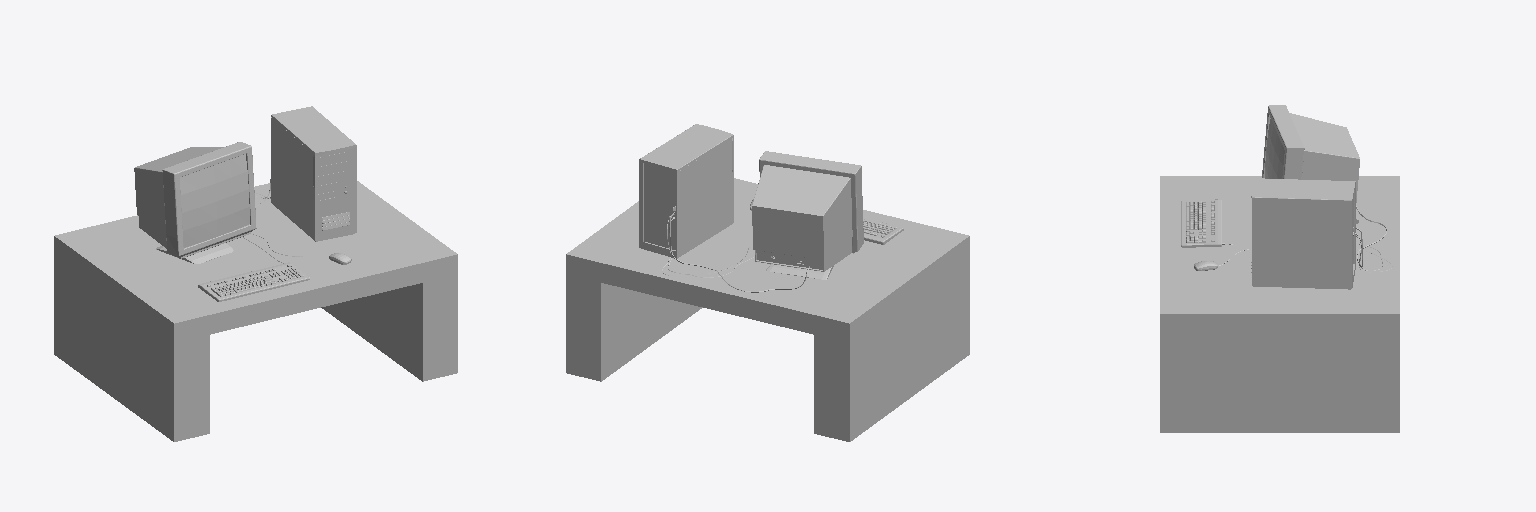
File: computer.obj
3 renders of one model, left to right at view 1: azimuth 30°, elevation 25°; view 2: azimuth 150°, elevation 25°; view 3: azimuth 270°, elevation 25°, orthographic.
Visible parts, largest first — view 1: Cube_Cube.002, retro_computer_setup_retro_computer_setup.001; view 2: Cube_Cube.002, retro_computer_setup_retro_computer_setup.001; view 3: Cube_Cube.002, retro_computer_setup_retro_computer_setup.001.
Part boxes in pixels (x1,y1,x2,y2): Cube_Cube.002: (54, 181, 457, 441); retro_computer_setup_retro_computer_setup.001: (134, 106, 356, 301); Cube_Cube.002: (566, 178, 969, 441); retro_computer_setup_retro_computer_setup.001: (639, 124, 903, 292); Cube_Cube.002: (1160, 176, 1399, 432); retro_computer_setup_retro_computer_setup.001: (1181, 105, 1392, 289).
Bounding box in the file's own units: 6 × 4.36 × 4.4.